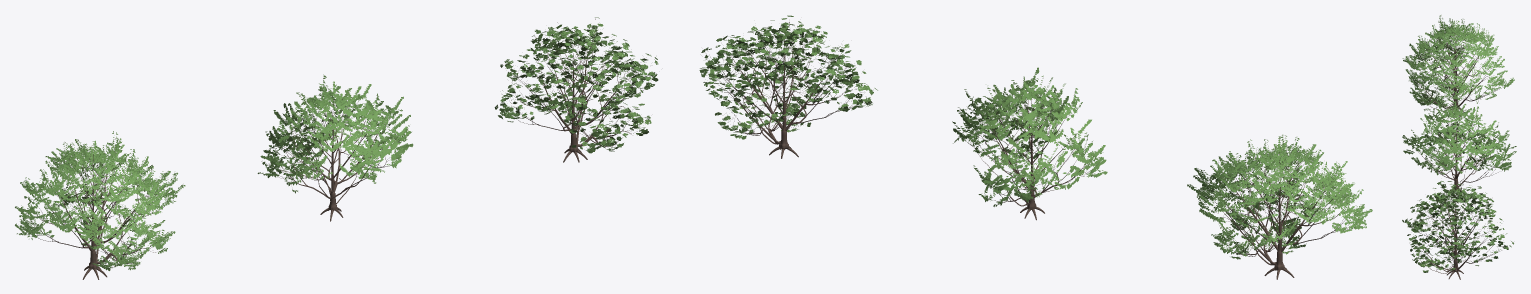
Rendered from redbud.glb.
3 views of the same model, side by side, from view 1: azimuth 30°, elevation 25°; view 2: azimuth 150°, elevation 25°; view 3: azimuth 270°, elevation 25° (orthographic). The views are drawn at different scales.
Visible parts, largest first — view 1: Redbud/Leaves_Leaf, Redbud_Lite/Leaves_Leaf, Redbud_Cards/Cards_Leaf, Redbud_Lite/Branches, Redbud_Cards/Branches, Redbud_Cards/Leaders, Redbud/Branches, Redbud_Lite/Leaders, Redbud/Leaders, Redbud_Cards/Twigs; view 2: Redbud/Leaves_Leaf, Redbud_Lite/Leaves_Leaf, Redbud_Cards/Cards_Leaf, Redbud_Cards/Branches, Redbud_Cards/Leaders, Redbud/Branches, Redbud/Leaders, Redbud_Cards/Twigs, Redbud_Lite/Branches, Redbud/Twigs, Redbud/Trunk_Roots; view 3: Redbud/Leaves_Leaf, Redbud_Lite/Leaves_Leaf, Redbud_Cards/Cards_Leaf, Redbud_Cards/Branches, Redbud_Lite/Branches, Redbud/Branches, Redbud_Cards/Leaders, Redbud_Cards/Twigs, Redbud/Leaders, Redbud/Twigs, Redbud_Lite/Twigs, Redbud_Lite/Leaders (+6 smaller).
Part boxes in pixels (x1,y1,x2,y2): Redbud/Leaves_Leaf: [15, 131, 185, 270]; Redbud_Lite/Leaves_Leaf: [257, 74, 413, 193]; Redbud_Cards/Cards_Leaf: [494, 17, 658, 153]; Redbud_Lite/Branches: [273, 85, 398, 203]; Redbud_Cards/Branches: [520, 36, 642, 146]; Redbud_Cards/Leaders: [543, 18, 609, 146]; Redbud/Branches: [38, 146, 155, 263]; Redbud_Lite/Leaders: [270, 78, 388, 199]; Redbud/Leaders: [56, 138, 129, 263]; Redbud_Cards/Twigs: [511, 22, 654, 150]; Redbud/Leaves_Leaf: [1187, 134, 1372, 259]; Redbud_Lite/Leaves_Leaf: [952, 67, 1107, 206]; Redbud_Cards/Cards_Leaf: [699, 15, 877, 139]; Redbud_Cards/Branches: [719, 20, 854, 144]; Redbud_Cards/Leaders: [731, 26, 839, 144]; Redbud/Branches: [1222, 150, 1356, 265]; Redbud/Leaders: [1222, 137, 1333, 265]; Redbud_Cards/Twigs: [706, 22, 856, 134]; Redbud_Lite/Branches: [958, 78, 1087, 206]; Redbud/Twigs: [1206, 150, 1357, 255]; Redbud/Trunk_Roots: [1264, 160, 1294, 279]; Redbud/Leaves_Leaf: [1402, 15, 1514, 110]; Redbud_Lite/Leaves_Leaf: [1402, 101, 1516, 175]; Redbud_Cards/Cards_Leaf: [1402, 181, 1513, 272]; Redbud_Cards/Branches: [1414, 194, 1489, 273]; Redbud_Lite/Branches: [1412, 107, 1495, 190]; Redbud/Branches: [1417, 33, 1487, 110]; Redbud_Cards/Leaders: [1422, 186, 1485, 271]; Redbud_Cards/Twigs: [1411, 195, 1497, 270]; Redbud/Leaders: [1425, 24, 1485, 109]; Redbud/Twigs: [1413, 36, 1497, 108]; Redbud_Lite/Twigs: [1414, 110, 1504, 182]; Redbud_Lite/Leaders: [1452, 124, 1498, 188].
Bounding box in the file's own units: 13.49 × 2.69 × 3.01.
Materials: 4 (1 with a texture image).
